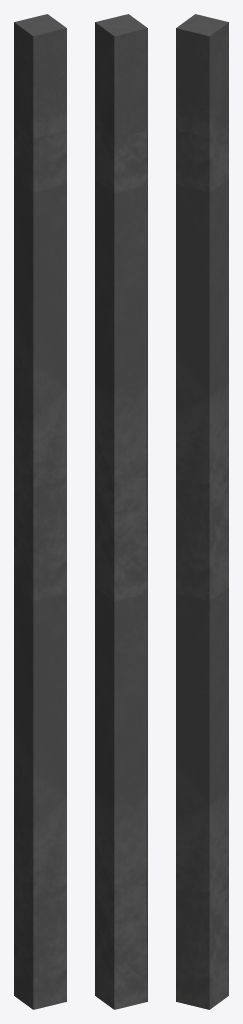
File: pole_ground_150cm.obj
The picture shows the model from 3 angles, left to right: view 1: azimuth 30°, elevation 25°; view 2: azimuth 210°, elevation 25°; view 3: azimuth 330°, elevation 25°; orthographic projection.
Parts seen in each view (by area): view 1: pole_g150, pole_end_g150; view 2: pole_g150, pole_end_g150; view 3: pole_g150, pole_end_g150.
Boxes of the visible parts, left/top/right/bottom form: pole_g150: left=14, top=124, right=66, bottom=1009; pole_end_g150: left=14, top=14, right=66, bottom=138; pole_g150: left=95, top=124, right=147, bottom=1009; pole_end_g150: left=95, top=14, right=147, bottom=138; pole_g150: left=176, top=124, right=228, bottom=1009; pole_end_g150: left=176, top=14, right=228, bottom=138.
Bounding box in the file's own units: 0.0604 × 1.68 × 0.0604.
1 material, 1 textured.
